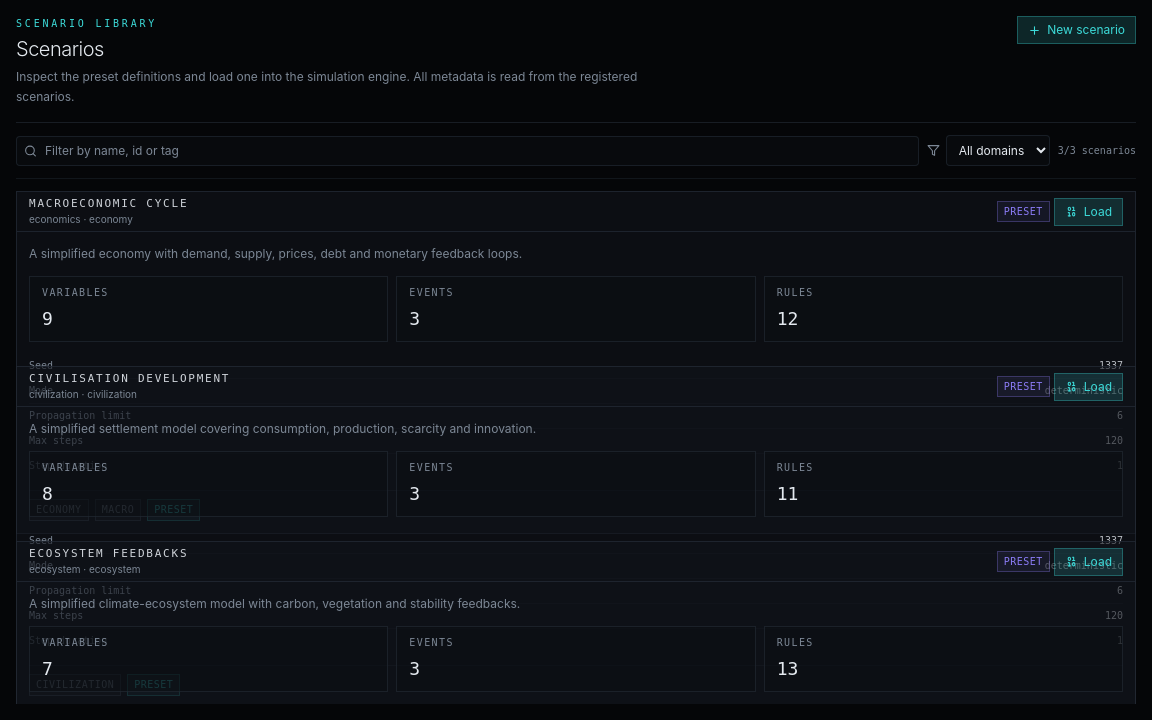
ScenariosView › shows all scenarios and filters them by name
Type "Macro" into the search field named "Filter scenarios" at (467, 150), box left=16, top=136, right=919, bottom=166
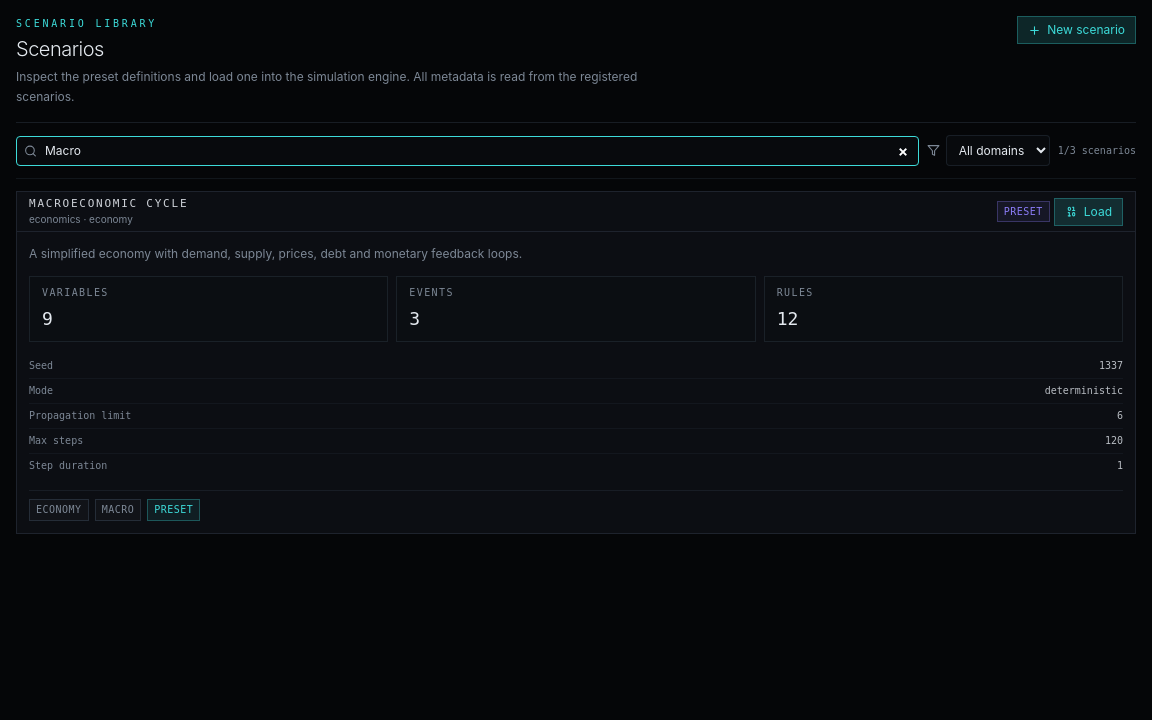
Expected: the heading "Macroeconomic Cycle" is shown, left=29, top=196, right=188, bottom=212
Now the text "1/3 scenarios" is shown, box left=1058, top=142, right=1136, bottom=158
